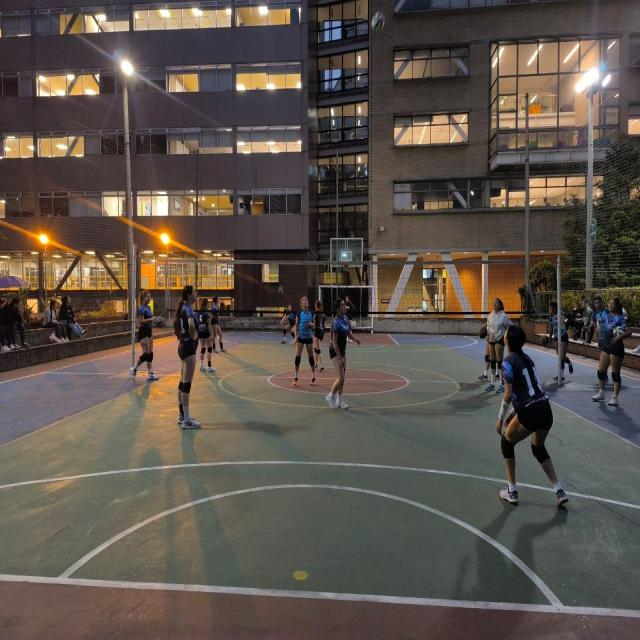volleyball: (371, 11, 385, 32), (614, 326, 626, 337), (156, 317, 166, 327), (479, 326, 487, 338), (540, 336, 548, 346)
